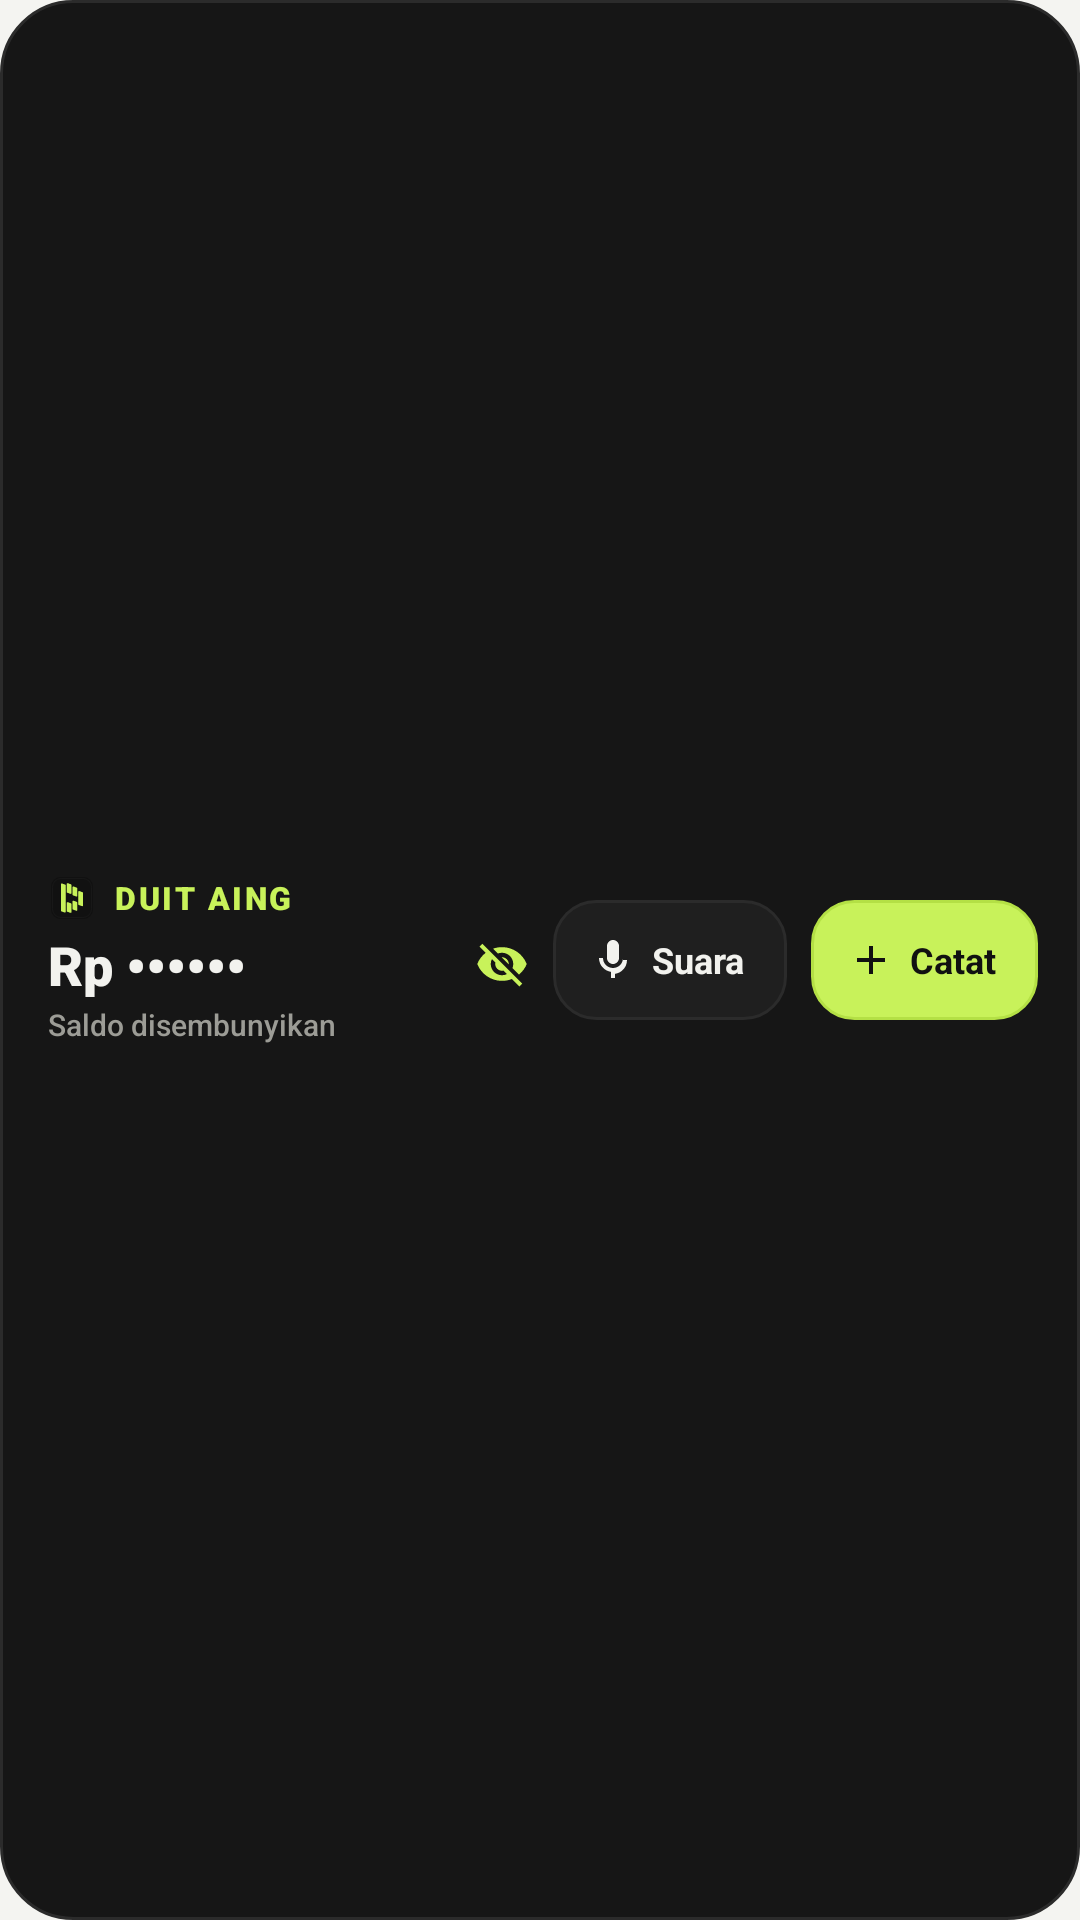

Icon bounding boxes for this 1080px×1920px phone screenshot, format BBox(x1, y1, x2, y2):
widget add: BBox(857, 946, 885, 974)
widget mic: BBox(599, 940, 627, 978)
